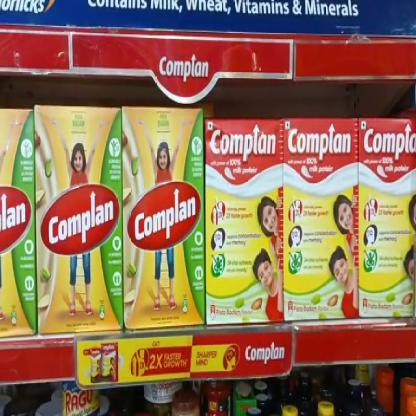Complan Pista Badam: (36, 106, 121, 336), (123, 108, 203, 326), (197, 119, 276, 322), (206, 122, 284, 322), (283, 117, 358, 319), (358, 119, 416, 317)
